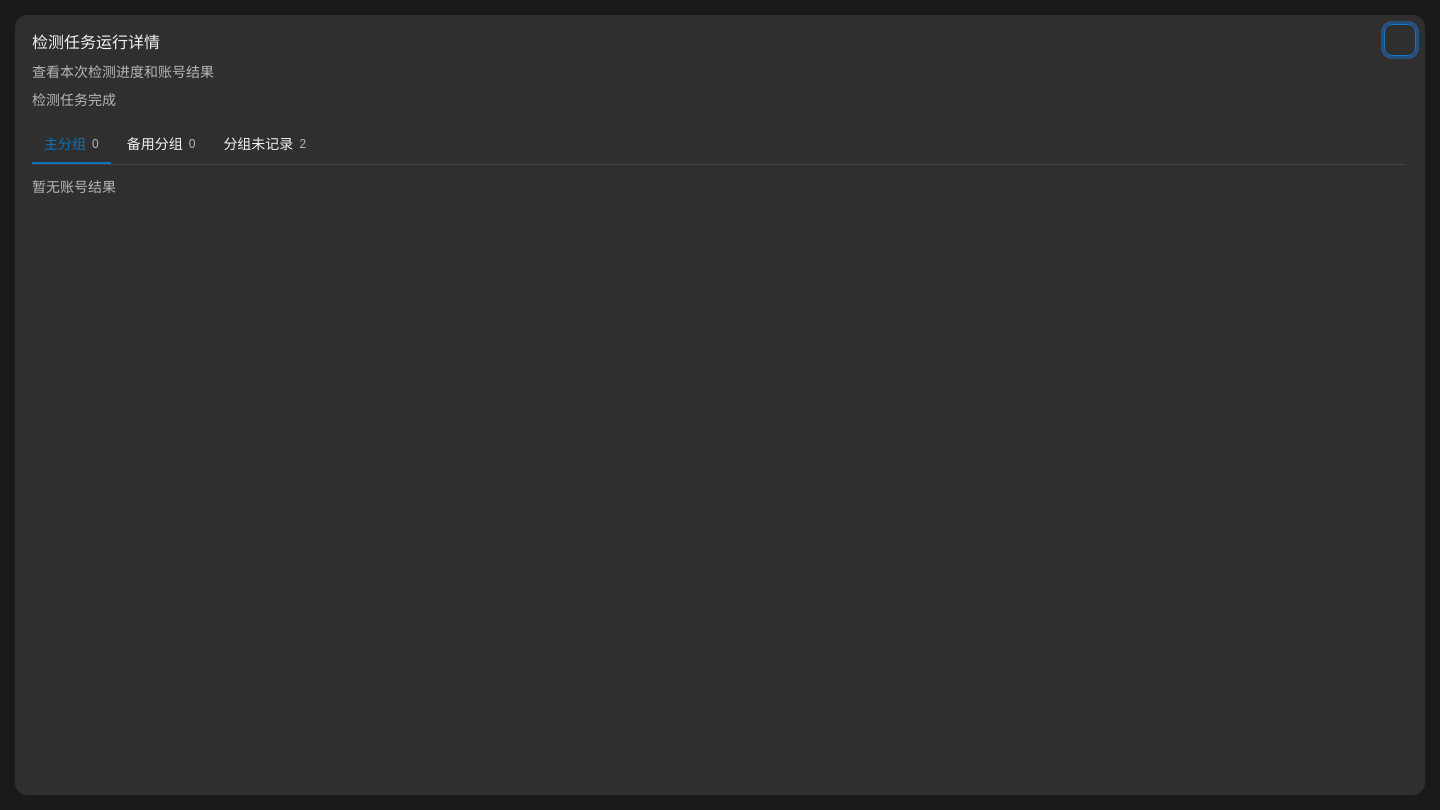
Test: 旧多分组记录缺少归属时保留结果但不猜测历史分组
Check: the element named "分组 主分组" is shown, box [32,179,116,195]
Click the tab "分组未记录 2": (265, 145) [211,126,318,164]
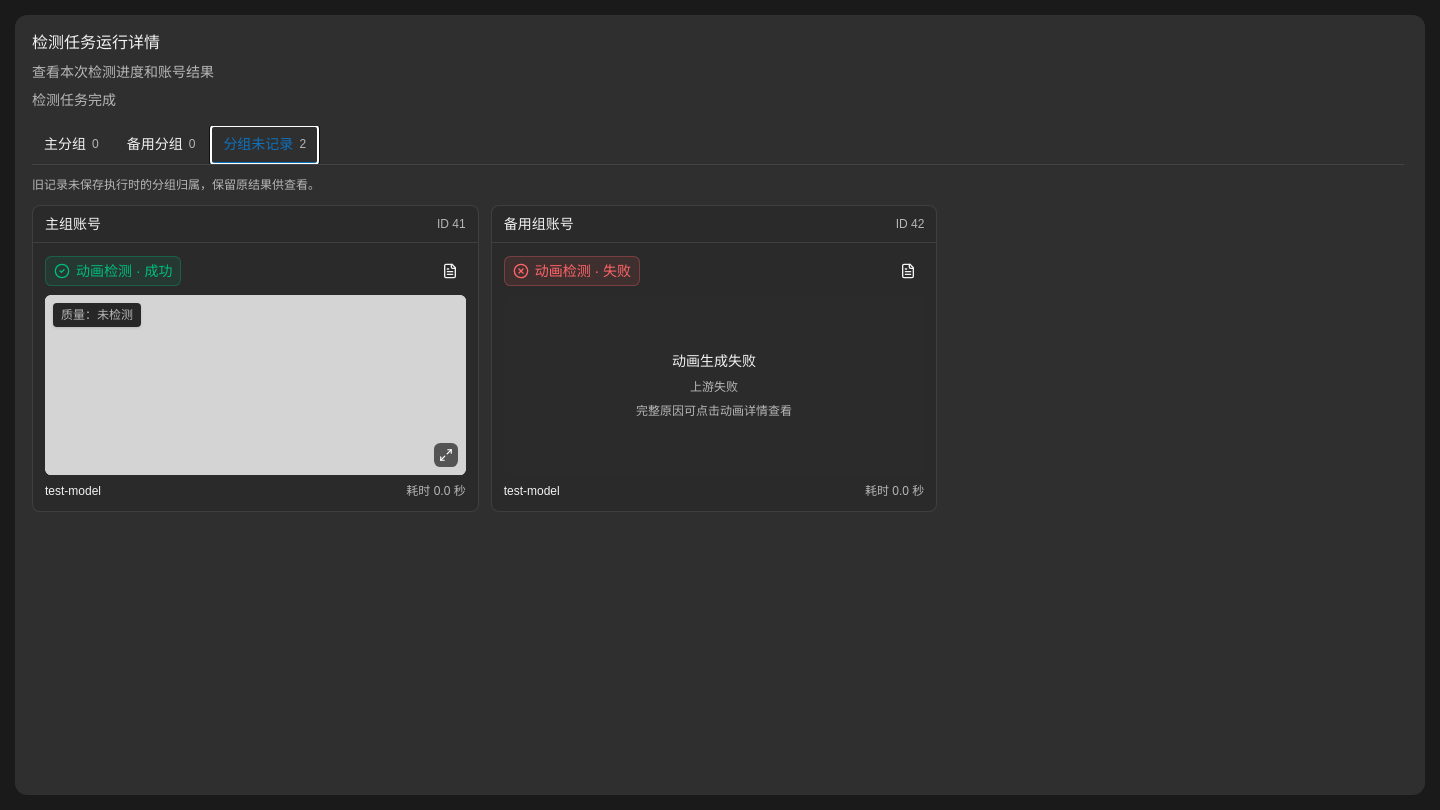
Check: the element named "分组 分组未记录" shows "主组账号", box [45,216,101,232]
Check: the text "旧记录未保存执行时的分组归属，保留原结果供查看。" is shown, box [32,178,320,192]
